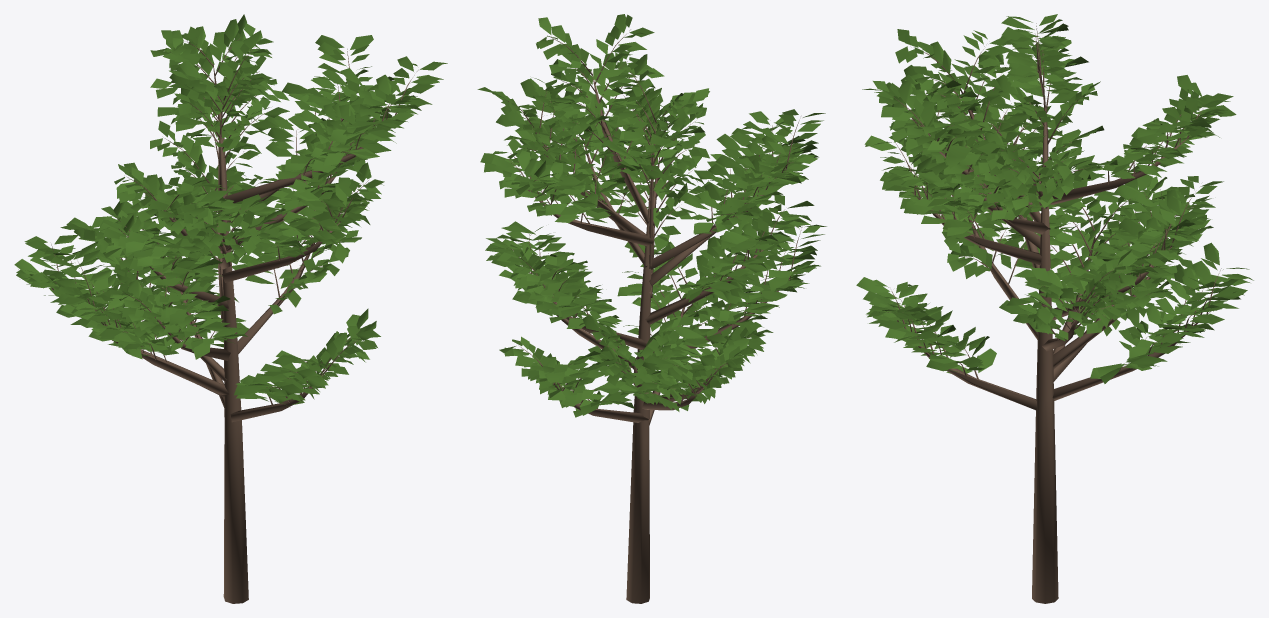
The model's file is broadleaf-lod2.glb.
3 renders of one model, left to right at view 1: azimuth 30°, elevation 25°; view 2: azimuth 150°, elevation 25°; view 3: azimuth 270°, elevation 25°, orthographic. The views are drawn at different scales.
Parts seen in each view (by area): view 1: tree_foliage, tree_trunk, tree_twigs, tree_branch_3, tree_branch_4, tree_branch_8, tree_branch_5, tree_branch_11; view 2: tree_foliage, tree_trunk, tree_twigs, tree_branch_2, tree_branch_8, tree_branch_9, tree_branch_1, tree_branch_6, tree_branch_15, tree_branch_13; view 3: tree_foliage, tree_trunk, tree_twigs, tree_branch_11, tree_branch_3, tree_branch_2, tree_branch_15, tree_branch_7.
Boxes of the visible parts, bbox=[...] form: tree_foliage: bbox=[14, 14, 447, 407]; tree_trunk: bbox=[219, 132, 248, 603]; tree_twigs: bbox=[51, 35, 418, 406]; tree_branch_3: bbox=[222, 222, 340, 282]; tree_branch_4: bbox=[101, 322, 228, 394]; tree_branch_8: bbox=[224, 147, 363, 203]; tree_branch_5: bbox=[237, 244, 313, 353]; tree_branch_11: bbox=[230, 372, 325, 422]; tree_foliage: bbox=[477, 14, 826, 417]; tree_trunk: bbox=[626, 157, 653, 603]; tree_twigs: bbox=[505, 29, 801, 408]; tree_branch_2: bbox=[527, 189, 653, 245]; tree_branch_8: bbox=[591, 71, 654, 225]; tree_branch_9: bbox=[645, 250, 763, 324]; tree_branch_1: bbox=[649, 186, 773, 269]; tree_branch_6: bbox=[649, 196, 749, 286]; tree_branch_15: bbox=[553, 384, 648, 422]; tree_branch_13: bbox=[536, 132, 646, 234]; tree_foliage: bbox=[856, 14, 1253, 383]; tree_trunk: bbox=[1032, 107, 1058, 603]; tree_twigs: bbox=[887, 23, 1221, 378]; tree_branch_11: bbox=[918, 346, 1036, 410]; tree_branch_3: bbox=[912, 192, 1041, 265]; tree_branch_2: bbox=[1050, 136, 1189, 204]; tree_branch_15: bbox=[1052, 311, 1210, 400]; tree_branch_7: bbox=[1053, 276, 1150, 368].
Size of the model in its own units: 2.61 by 4.29 by 2.69.
